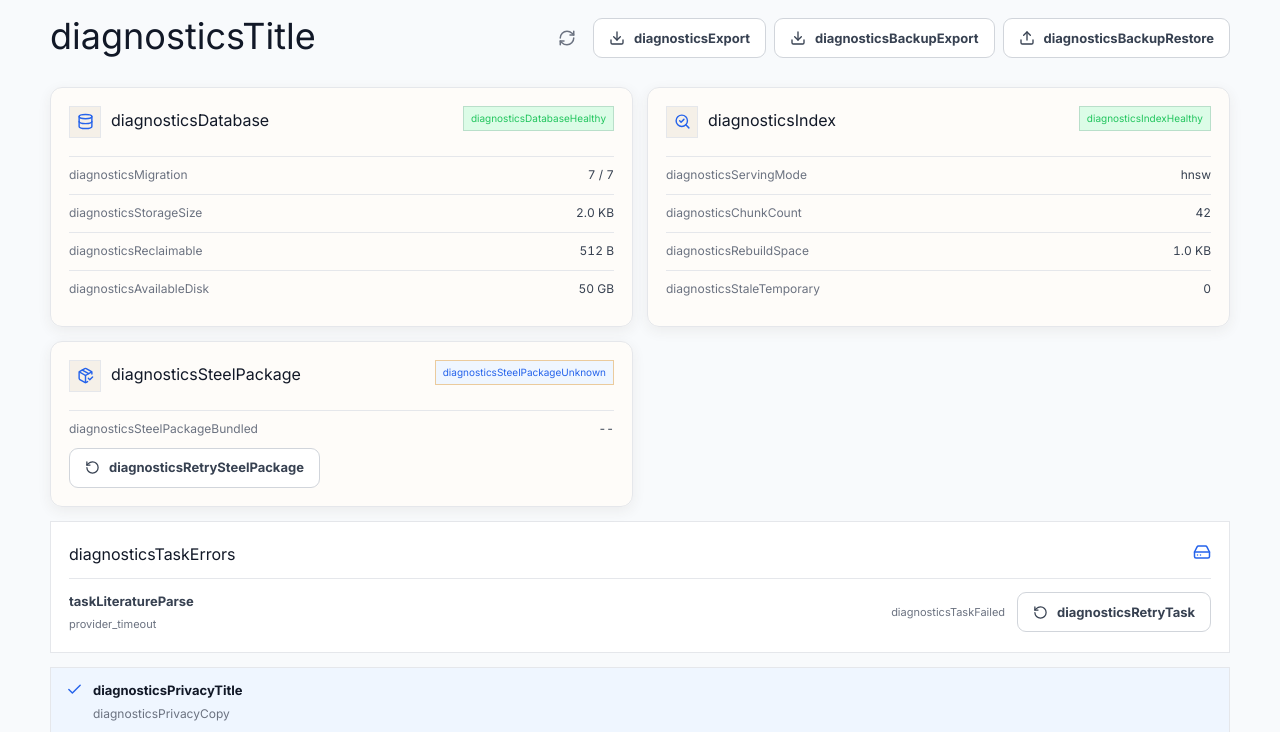
Test: DiagnosticsPage › creates a local backup at the path selected by the user
Click the button "diagnosticsBackupExport" at (884, 38), box 774,18 -> 995,58
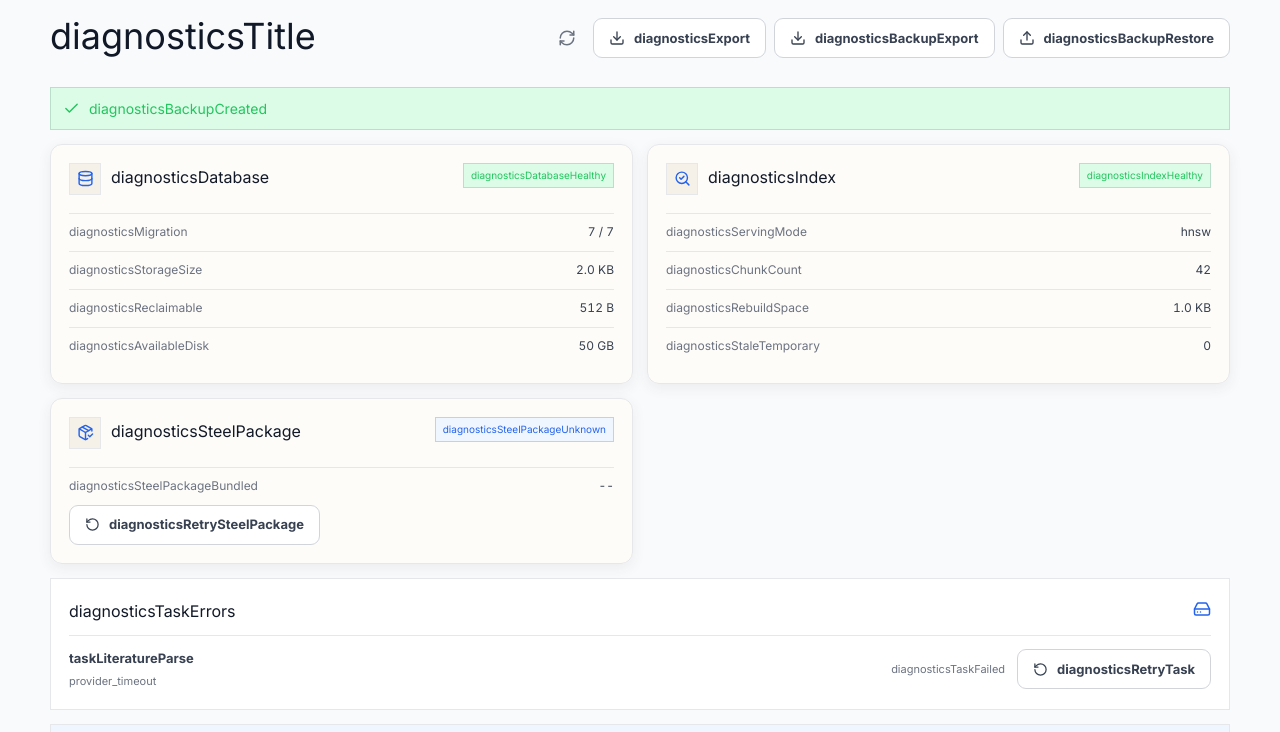
Expected: the text "diagnosticsBackupCreated" is shown, 89,98 -> 267,119
